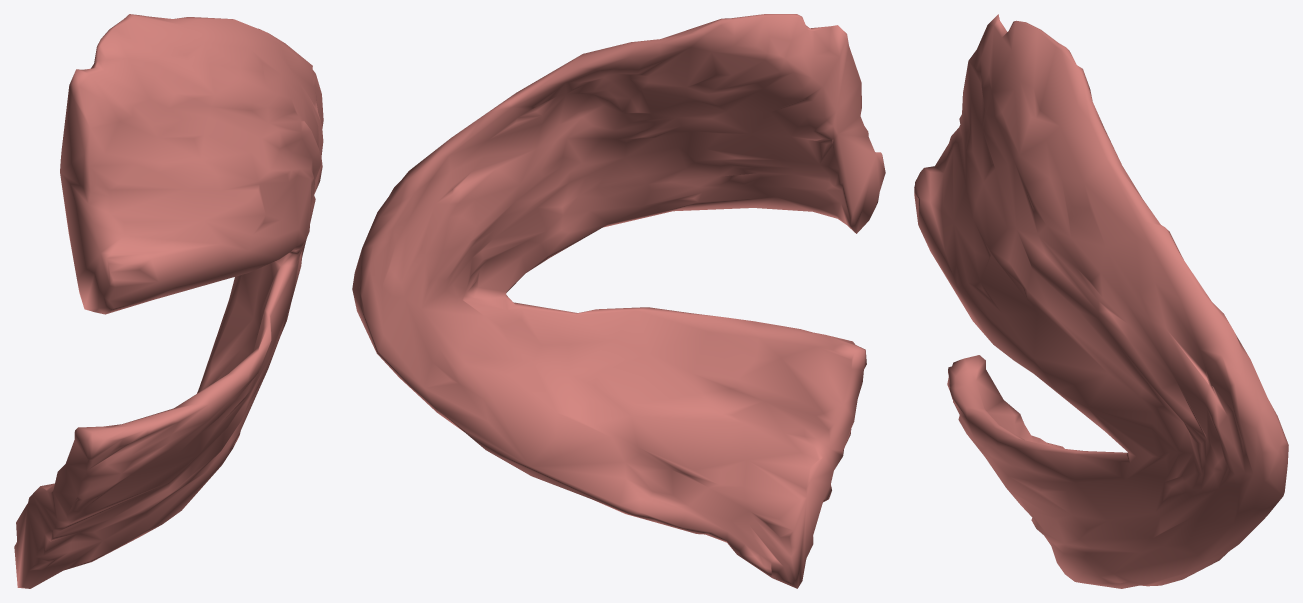
3 views of the same model, side by side, from view 1: azimuth 30°, elevation 25°; view 2: azimuth 150°, elevation 25°; view 3: azimuth 270°, elevation 25° (orthographic). The views are drawn at different scales.
Visible parts, largest first — view 1: ZA_e5566e0837859750; view 2: ZA_e5566e0837859750; view 3: ZA_e5566e0837859750.
Boxes of the visible parts, <box> form: ZA_e5566e0837859750: <box>14,14,323,588</box>; ZA_e5566e0837859750: <box>352,14,885,588</box>; ZA_e5566e0837859750: <box>914,14,1288,588</box>.
Size of the model in its own units: 0.0321 by 0.0454 by 0.0276.
